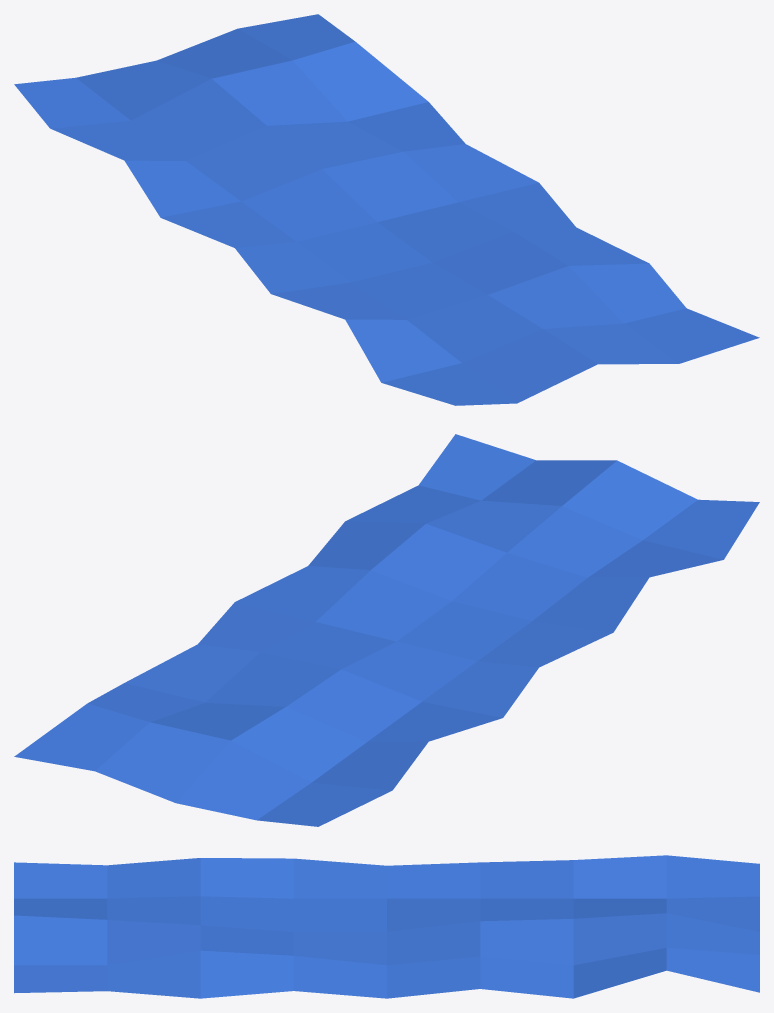
File: Water_Ex_UV.fbx
The picture shows the model from 3 angles, top to bottom: view 1: azimuth 30°, elevation 25°; view 2: azimuth 150°, elevation 25°; view 3: azimuth 270°, elevation 25°; orthographic projection. The views are drawn at different scales.
Visible parts, largest first — view 1: Plane; view 2: Plane; view 3: Plane.
Boxes of the visible parts, left/top/right/bottom form: Plane: left=14, top=14, right=759, bottom=405; Plane: left=14, top=434, right=759, bottom=826; Plane: left=14, top=855, right=759, bottom=998.
Bounding box in the file's own units: 200 × 14.36 × 473.
